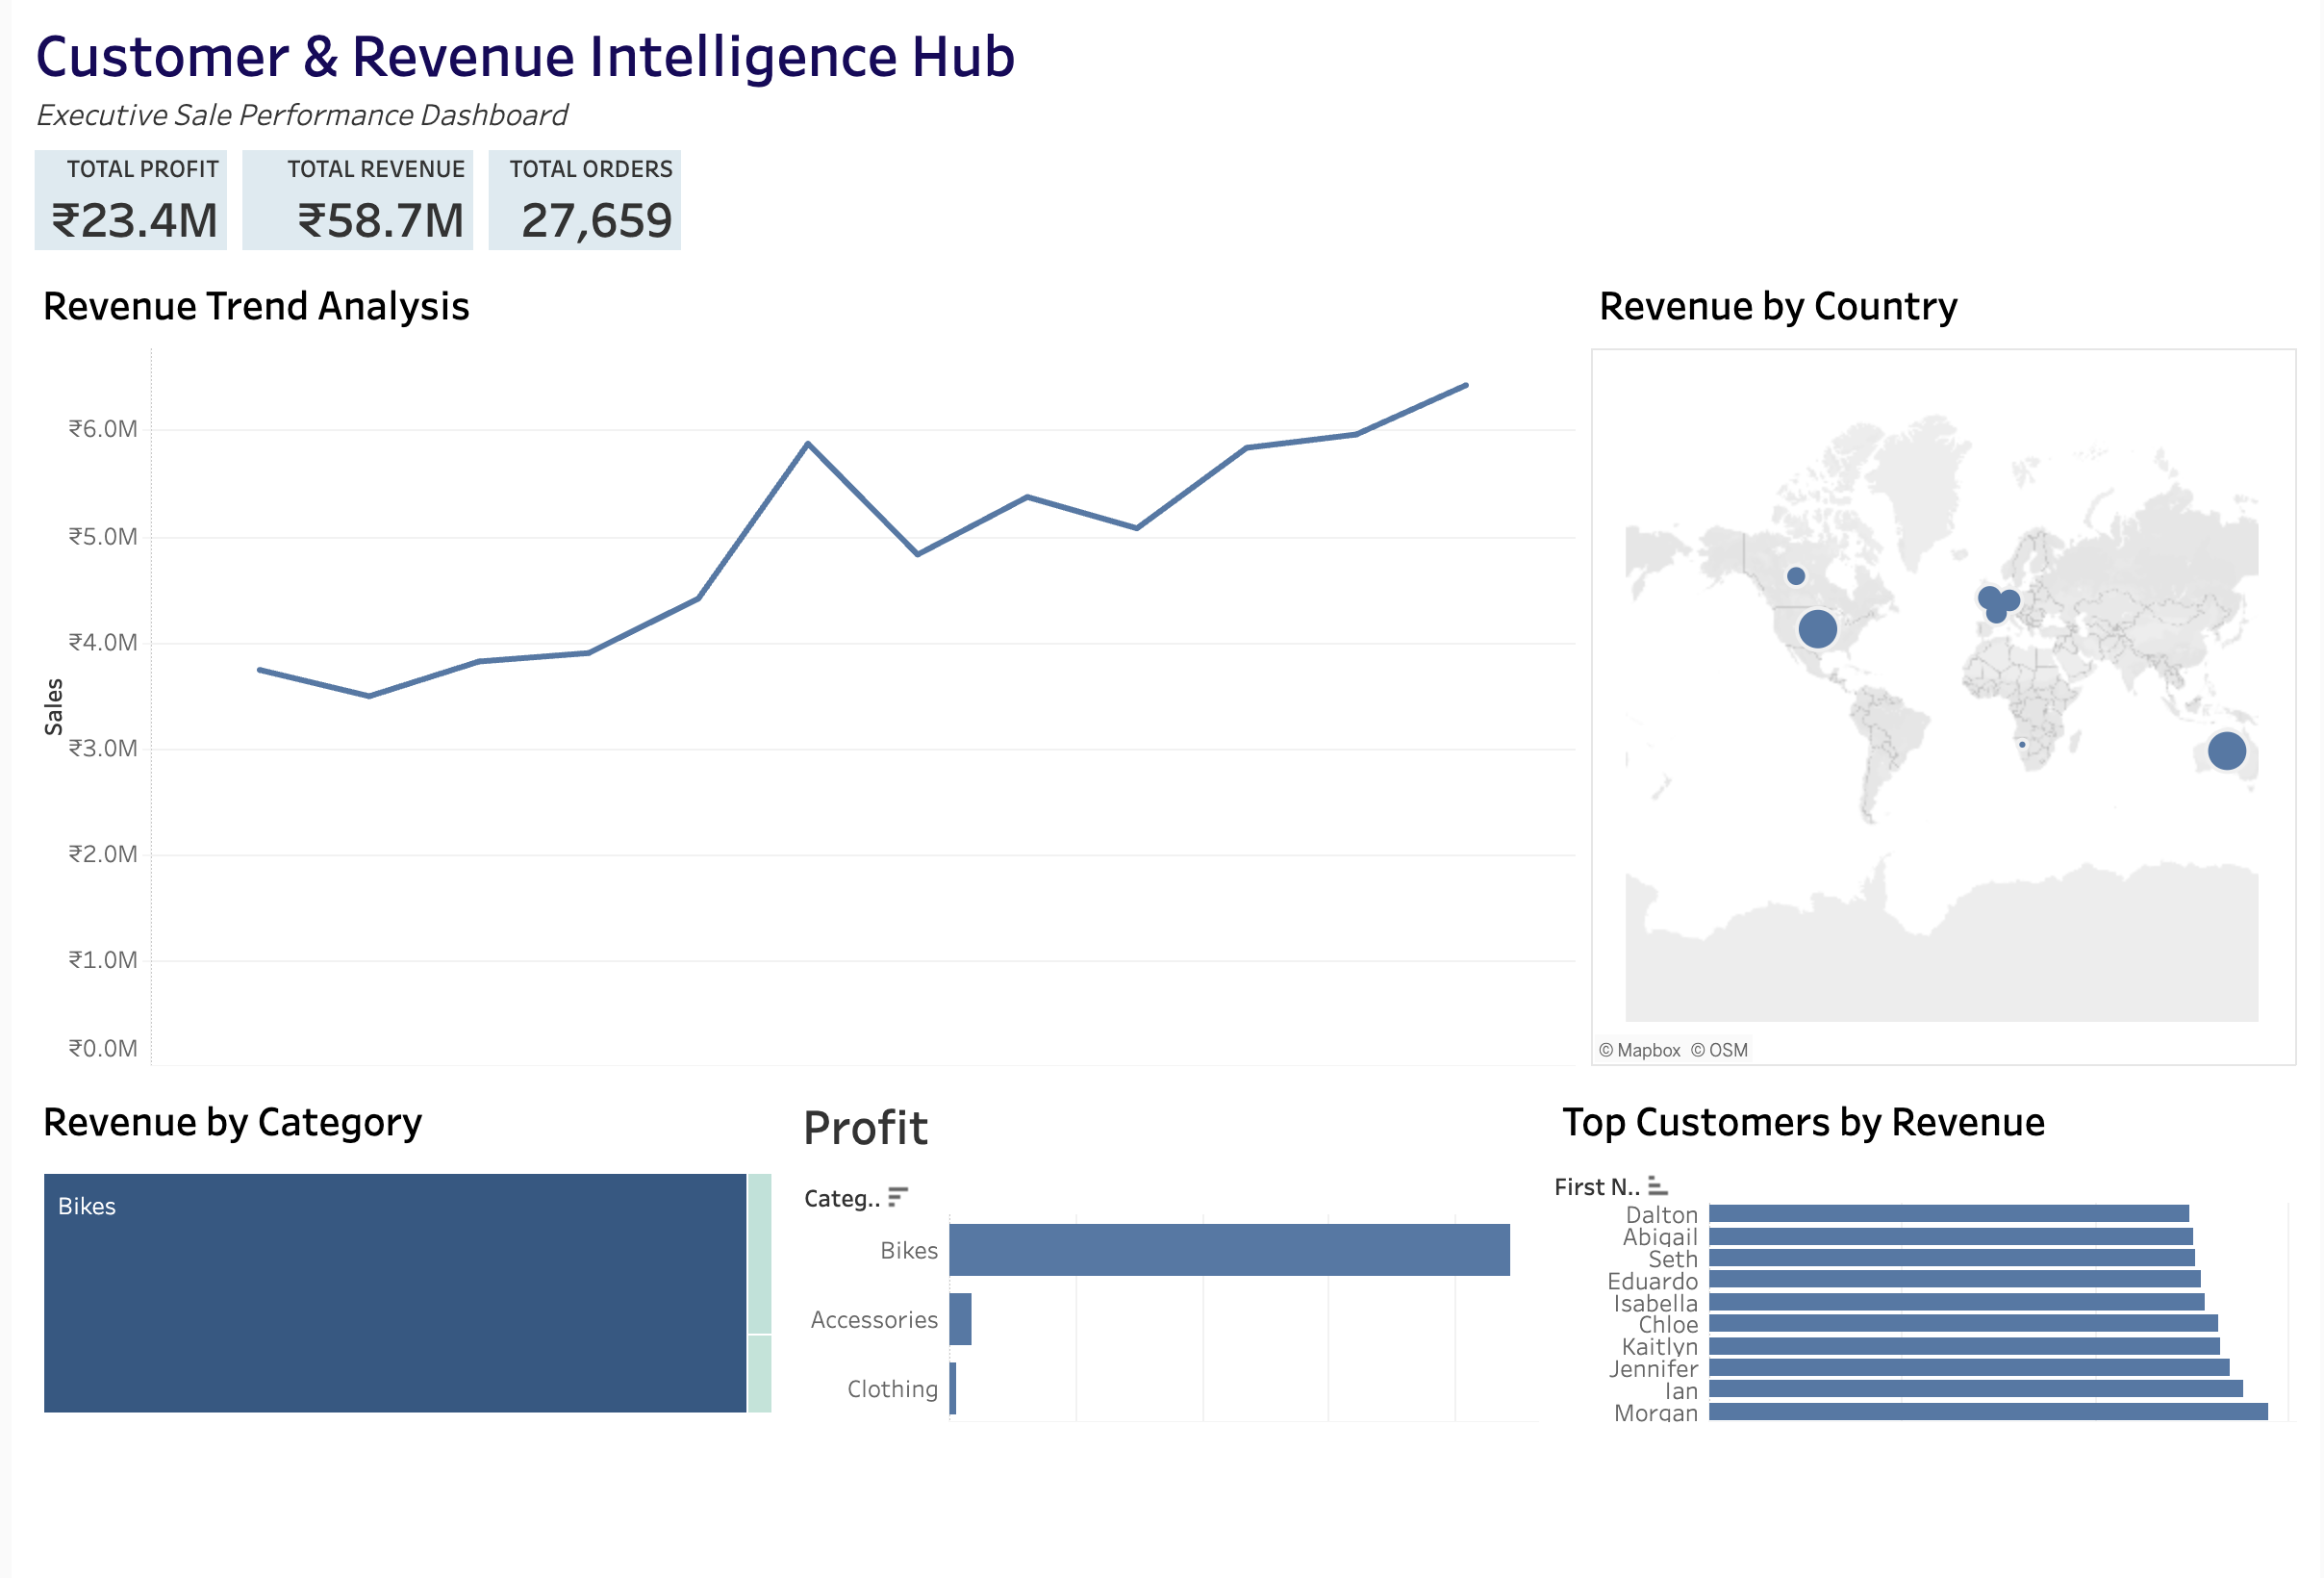

The dashboard page shown, as its layout file describes it:
{"tool":"tableau","page":{"name":"Dashboard","canvas":[1200,900],"ordinal":0},"visuals":[{"type":"title","box":[8,8,1184,69]},{"type":"worksheet","title":"kpi2","mark":"Automatic","box":[8,77,108,58]},{"type":"worksheet","title":"kpi1","mark":"Automatic","box":[116,77,128,58]},{"type":"worksheet","title":"kpi3","mark":"Automatic","box":[244,77,108,58]},{"type":"worksheet","title":"Revenue Trend Analysis","mark":"Automatic","rows":["sales"],"cols":["order_date"],"box":[8,135,809,424]},{"type":"worksheet","title":" Revenue by Country","mark":"Automatic","box":[817,135,375,424]},{"type":"worksheet","title":"Revenue by Category","mark":"Automatic","box":[8,559,395,185]},{"type":"worksheet","title":"Profit","mark":"Automatic","rows":["category"],"cols":["Calculation_5951800752840709"],"box":[403,559,395,185]},{"type":"worksheet","title":" Top Customers by Revenue","mark":"Automatic","rows":["first_name"],"cols":["sales"],"box":[798,559,394,185]}]}

Visuals, with their boxes on the page's 1200x900 design canvas (x1, y1, x2, y2). These are canvas units, not pixel positions in the 2324x1578 screenshot, which may show the page scaled, cropped or inside an application window:
title: (left=8, top=8, right=1192, bottom=77)
"kpi2" worksheet: (left=8, top=77, right=116, bottom=135)
"kpi1" worksheet: (left=116, top=77, right=244, bottom=135)
"kpi3" worksheet: (left=244, top=77, right=352, bottom=135)
"Revenue Trend Analysis" worksheet: (left=8, top=135, right=817, bottom=559)
" Revenue by Country" worksheet: (left=817, top=135, right=1192, bottom=559)
"Revenue by Category" worksheet: (left=8, top=559, right=403, bottom=744)
"Profit" worksheet: (left=403, top=559, right=798, bottom=744)
" Top Customers by Revenue" worksheet: (left=798, top=559, right=1192, bottom=744)
